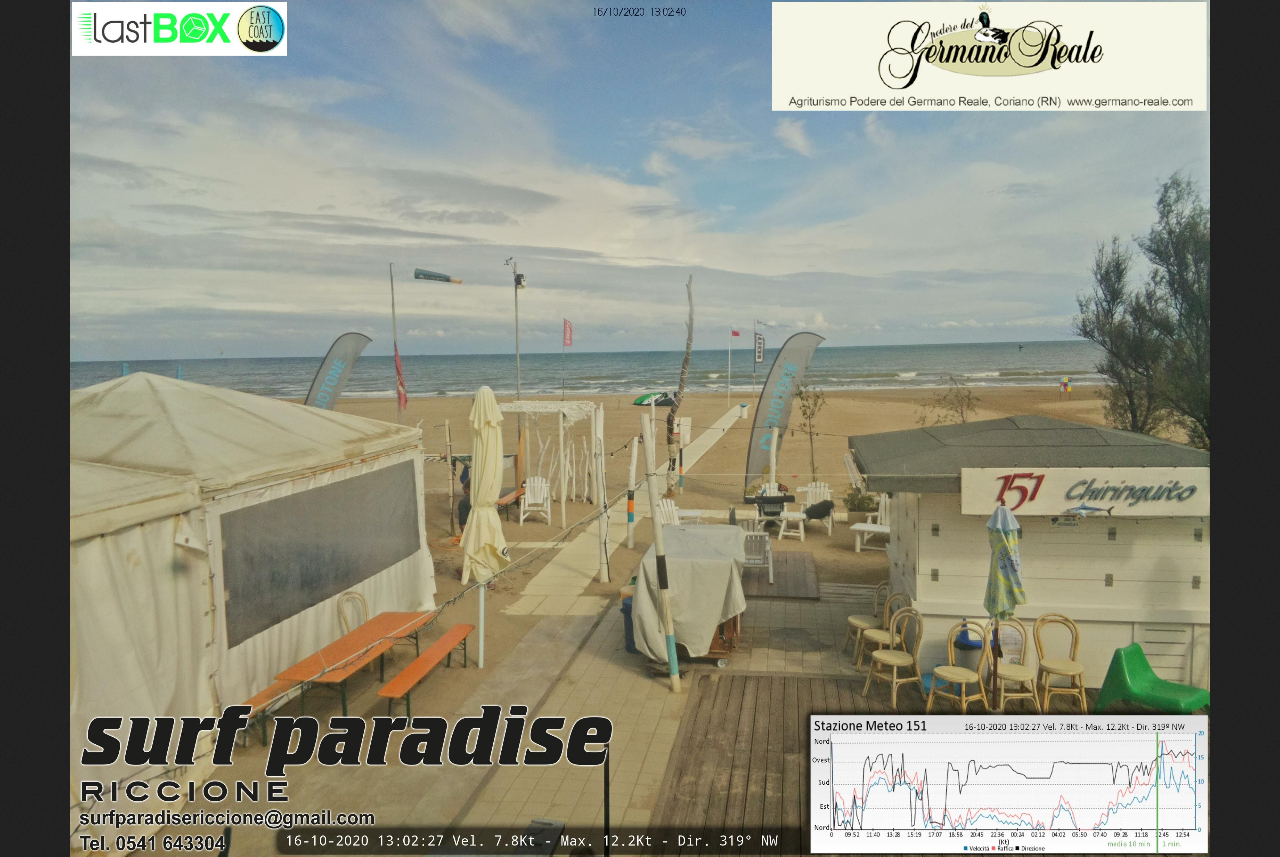yes: (560, 311, 577, 354), (750, 326, 766, 364), (726, 325, 744, 341)
